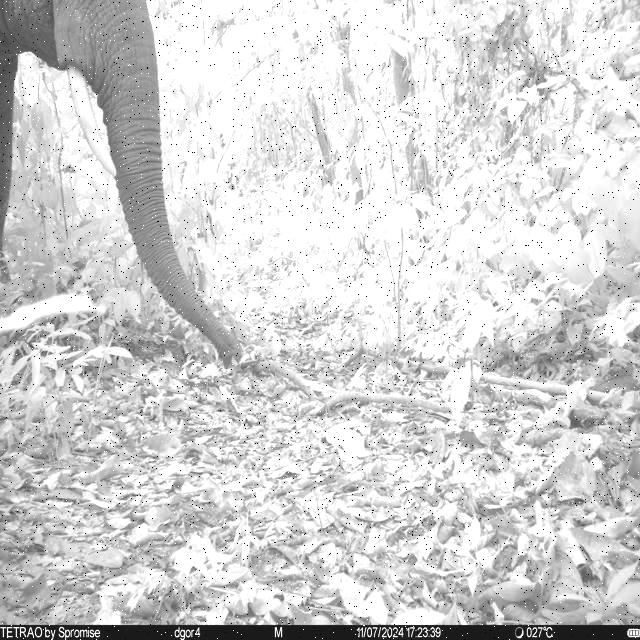elephant: (1, 41, 245, 370)
tusk: (62, 62, 119, 177)
